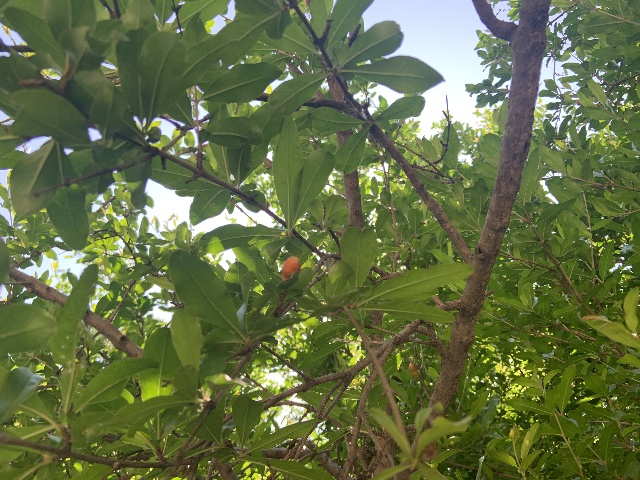bud: (281, 255, 300, 281)
